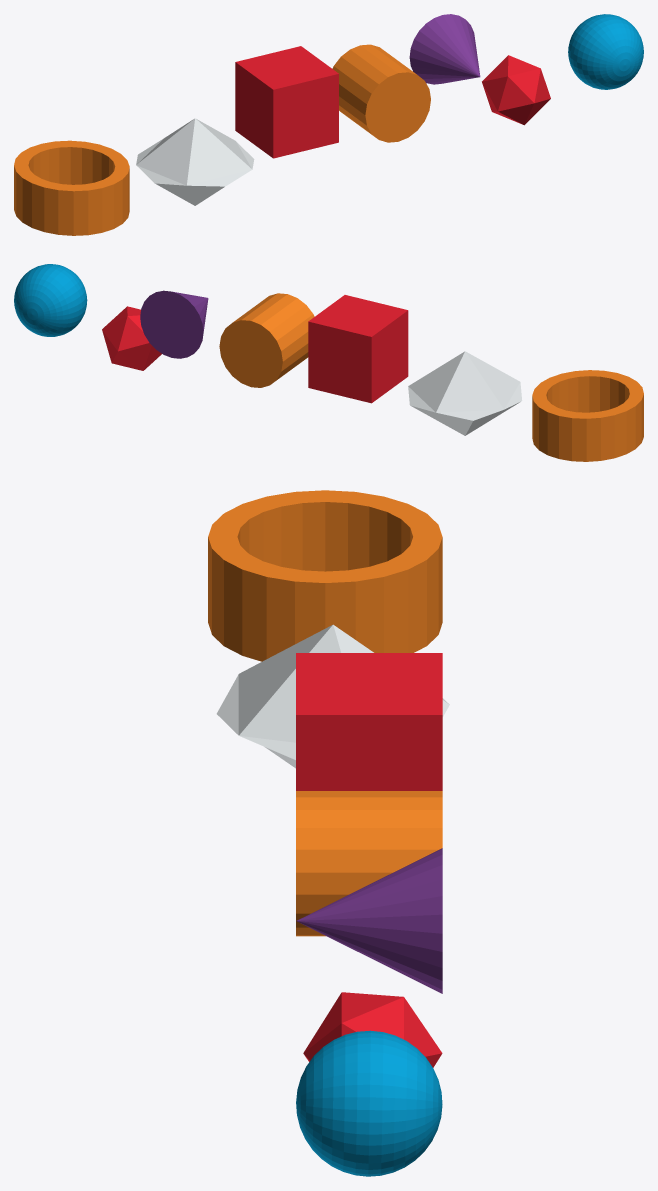
Rendered from tinker.obj.
3 views of the same model, one above another, from view 1: azimuth 30°, elevation 25°; view 2: azimuth 150°, elevation 25°; view 3: azimuth 270°, elevation 25° (orthographic). The views are drawn at different scales.
Parts seen in each view (by area): view 1: group_0_16089887, group_0_15277357, group_0_14541540, group_0_40919, group_0_8273816; view 2: group_0_16089887, group_0_15277357, group_0_14541540, group_0_40919, group_0_8273816; view 3: group_0_16089887, group_0_15277357, group_0_40919, group_0_8273816, group_0_14541540.
Boxes of the visible parts, x1,y1,x2,y2 form: group_0_16089887: (14, 44, 430, 235); group_0_15277357: (235, 46, 550, 158); group_0_14541540: (136, 118, 254, 205); group_0_40919: (568, 14, 643, 89); group_0_8273816: (409, 14, 480, 84); group_0_16089887: (219, 293, 643, 461); group_0_15277357: (102, 295, 408, 403); group_0_14541540: (408, 351, 522, 435); group_0_40919: (14, 264, 87, 336); group_0_8273816: (140, 290, 208, 358); group_0_16089887: (208, 490, 442, 936); group_0_15277357: (296, 653, 442, 1067); group_0_40919: (296, 1030, 442, 1176); group_0_8273816: (296, 848, 442, 993); group_0_14541540: (216, 624, 449, 768).
Bounding box in the file's own units: 191 × 31.51 × 33.
